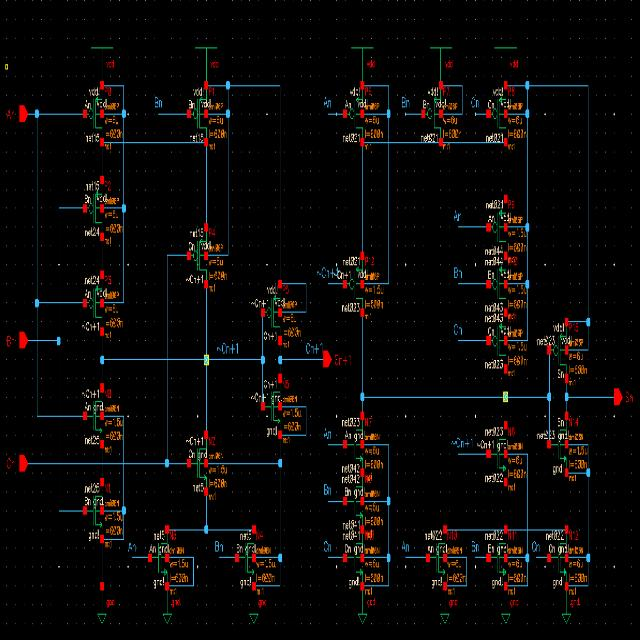gnd: (500, 580, 511, 631), (161, 581, 173, 626), (439, 582, 451, 627), (561, 581, 572, 629), (97, 582, 107, 627)
nmos: (233, 524, 257, 595), (147, 524, 171, 594), (187, 431, 210, 502), (485, 421, 509, 489), (546, 524, 570, 592), (342, 411, 366, 478), (82, 383, 105, 450), (343, 524, 365, 594), (547, 412, 569, 481), (425, 524, 448, 590), (485, 524, 508, 590), (83, 476, 105, 544), (260, 375, 283, 439), (342, 467, 364, 533)
pmos: (342, 80, 366, 152), (341, 248, 365, 320), (485, 306, 509, 378), (258, 280, 282, 349), (420, 79, 444, 148), (485, 193, 509, 262), (484, 252, 508, 320), (82, 81, 105, 151), (82, 271, 105, 341), (186, 82, 209, 150), (83, 173, 104, 246), (187, 224, 210, 290), (547, 317, 569, 381), (487, 81, 508, 146)
vdd: (192, 40, 220, 93), (89, 41, 117, 94), (428, 41, 454, 92), (492, 40, 518, 91), (350, 43, 377, 91)
